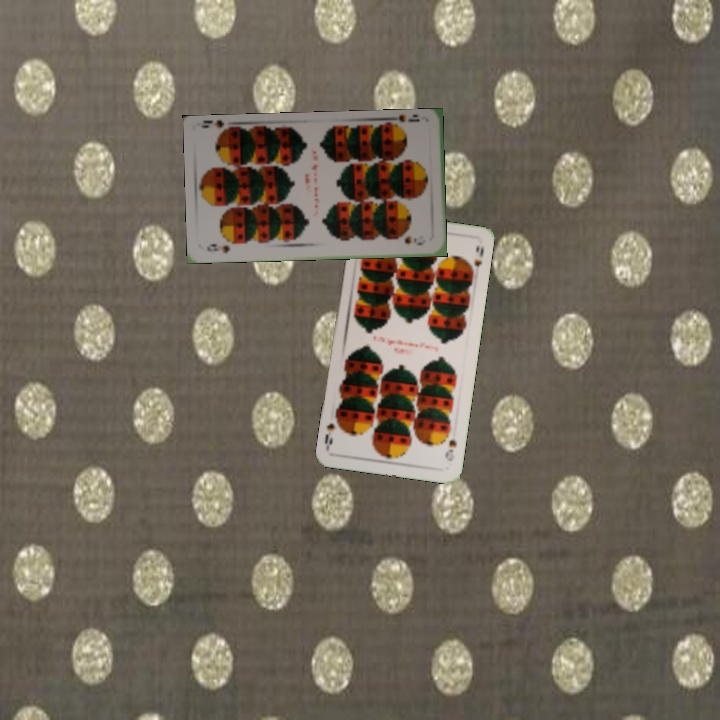S9: (386, 112, 422, 132), (441, 435, 459, 464), (203, 240, 233, 255)
